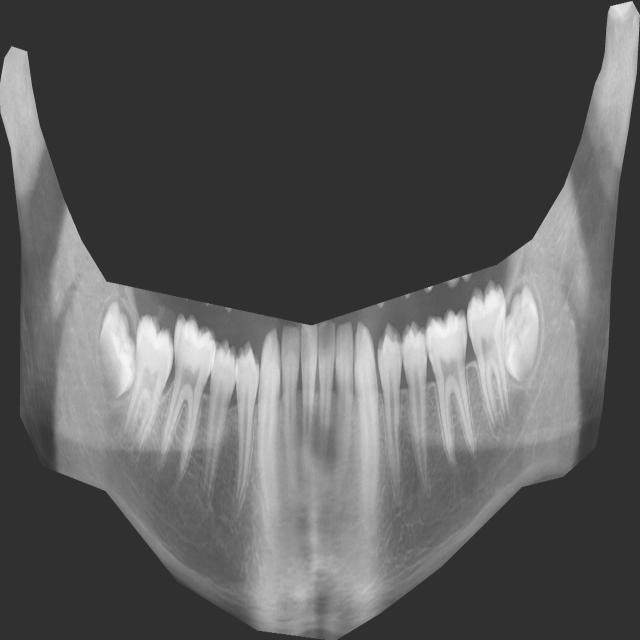mandibula: (0, 1, 640, 640)
